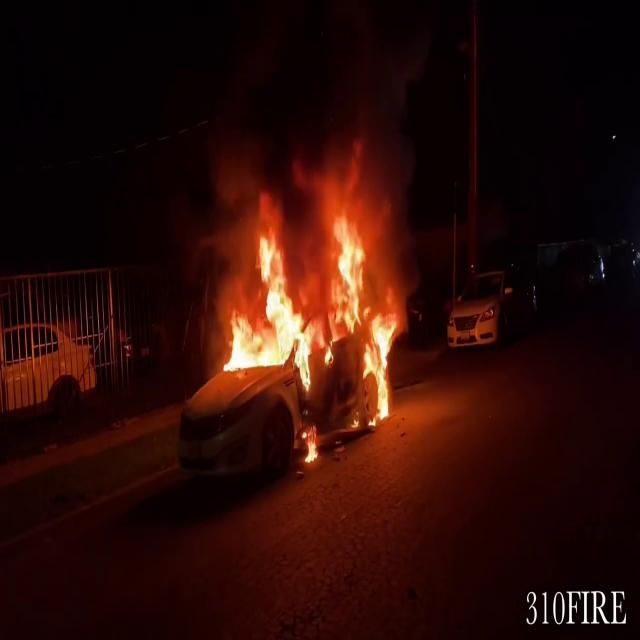Fire: (214, 150, 404, 448)
